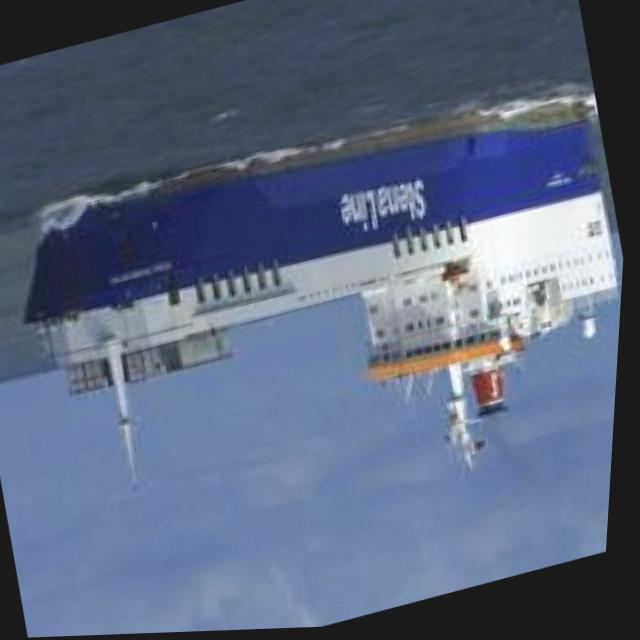ship2: (24, 117, 623, 482)
